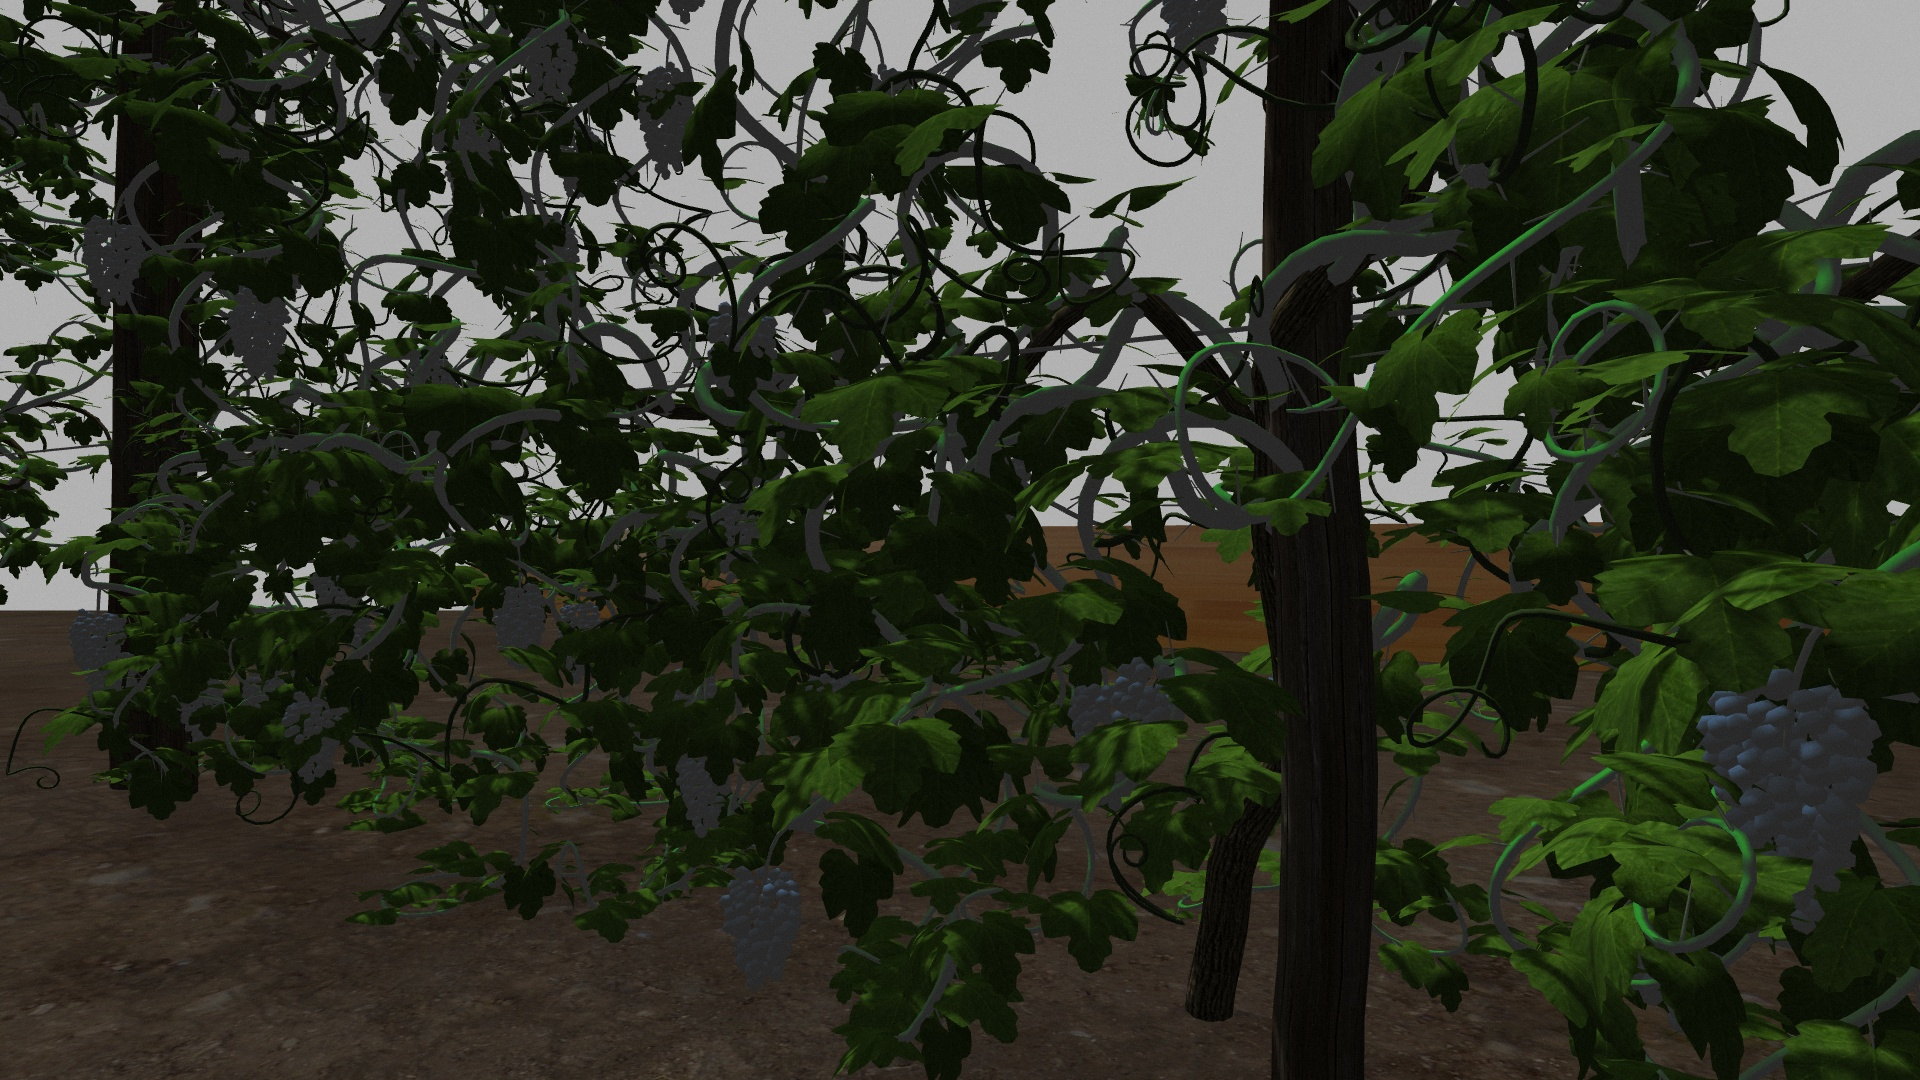grape: (1697, 663, 1880, 936), (721, 860, 807, 996), (1065, 655, 1184, 735), (636, 63, 698, 175), (225, 287, 293, 380), (80, 218, 146, 309), (669, 748, 735, 836), (522, 25, 578, 107), (67, 607, 127, 670), (495, 584, 547, 651), (284, 691, 348, 742), (559, 597, 601, 632)
